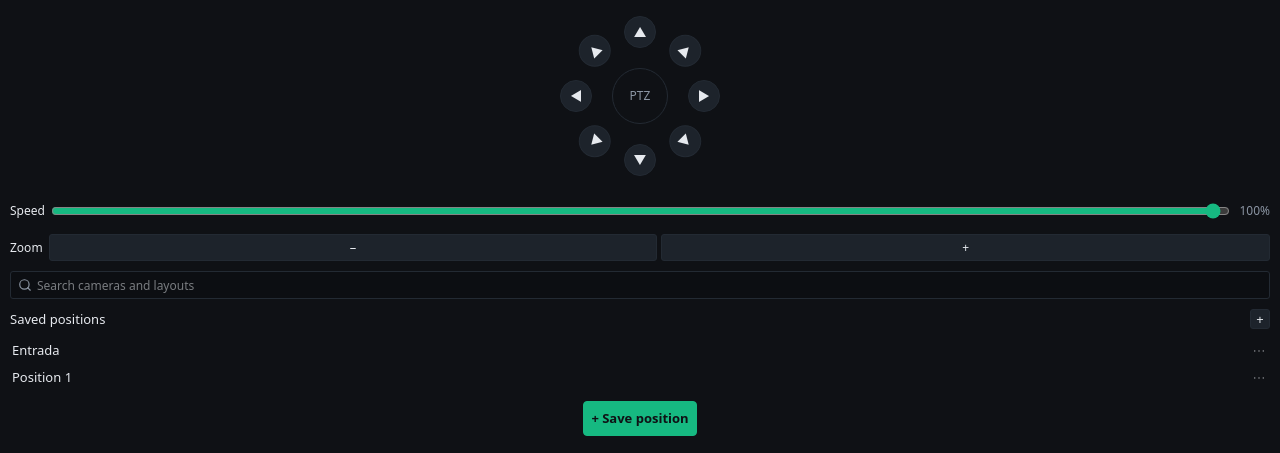
it: PtzPanel (spec 2026-10-17) › clearing the field restores the list
This screenshot has width=1280, height=453.
In the field named "Filter saved positions": (640, 285) [10,271,1270,299], type "zzz"
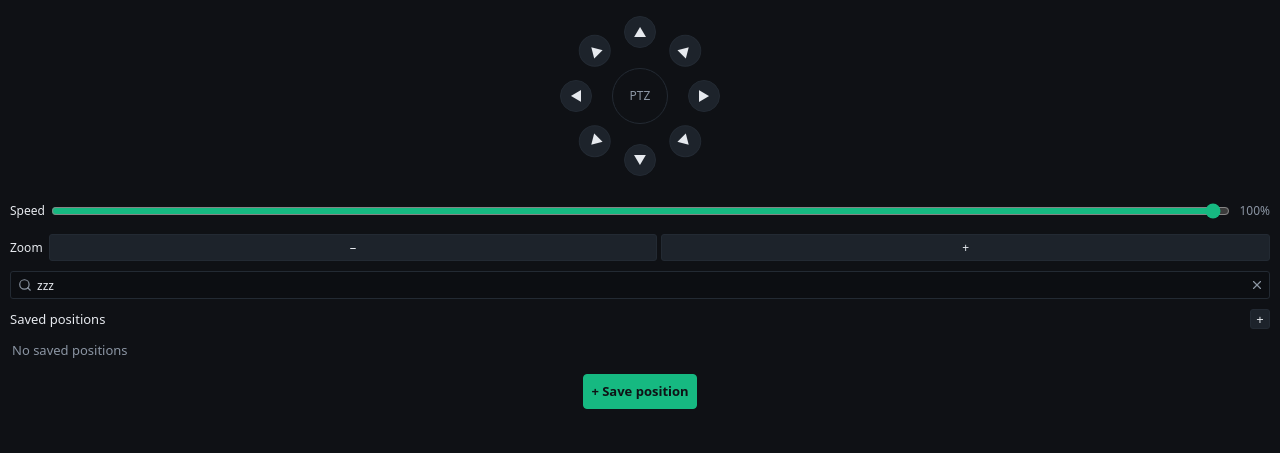
Expected: the text "Entrada" is gone
Clear the field named "Filter saved positions": (640, 285) [10,271,1270,299]
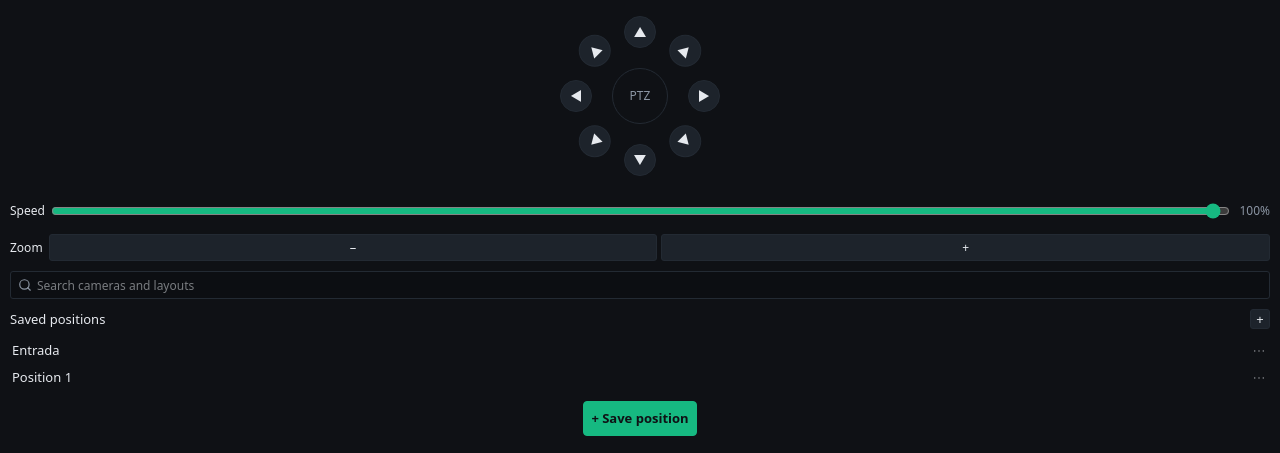
Expected: the text "Entrada" is shown, [12,341,60,359]
Expected: the text "Position 1" is shown, [12,368,72,386]
